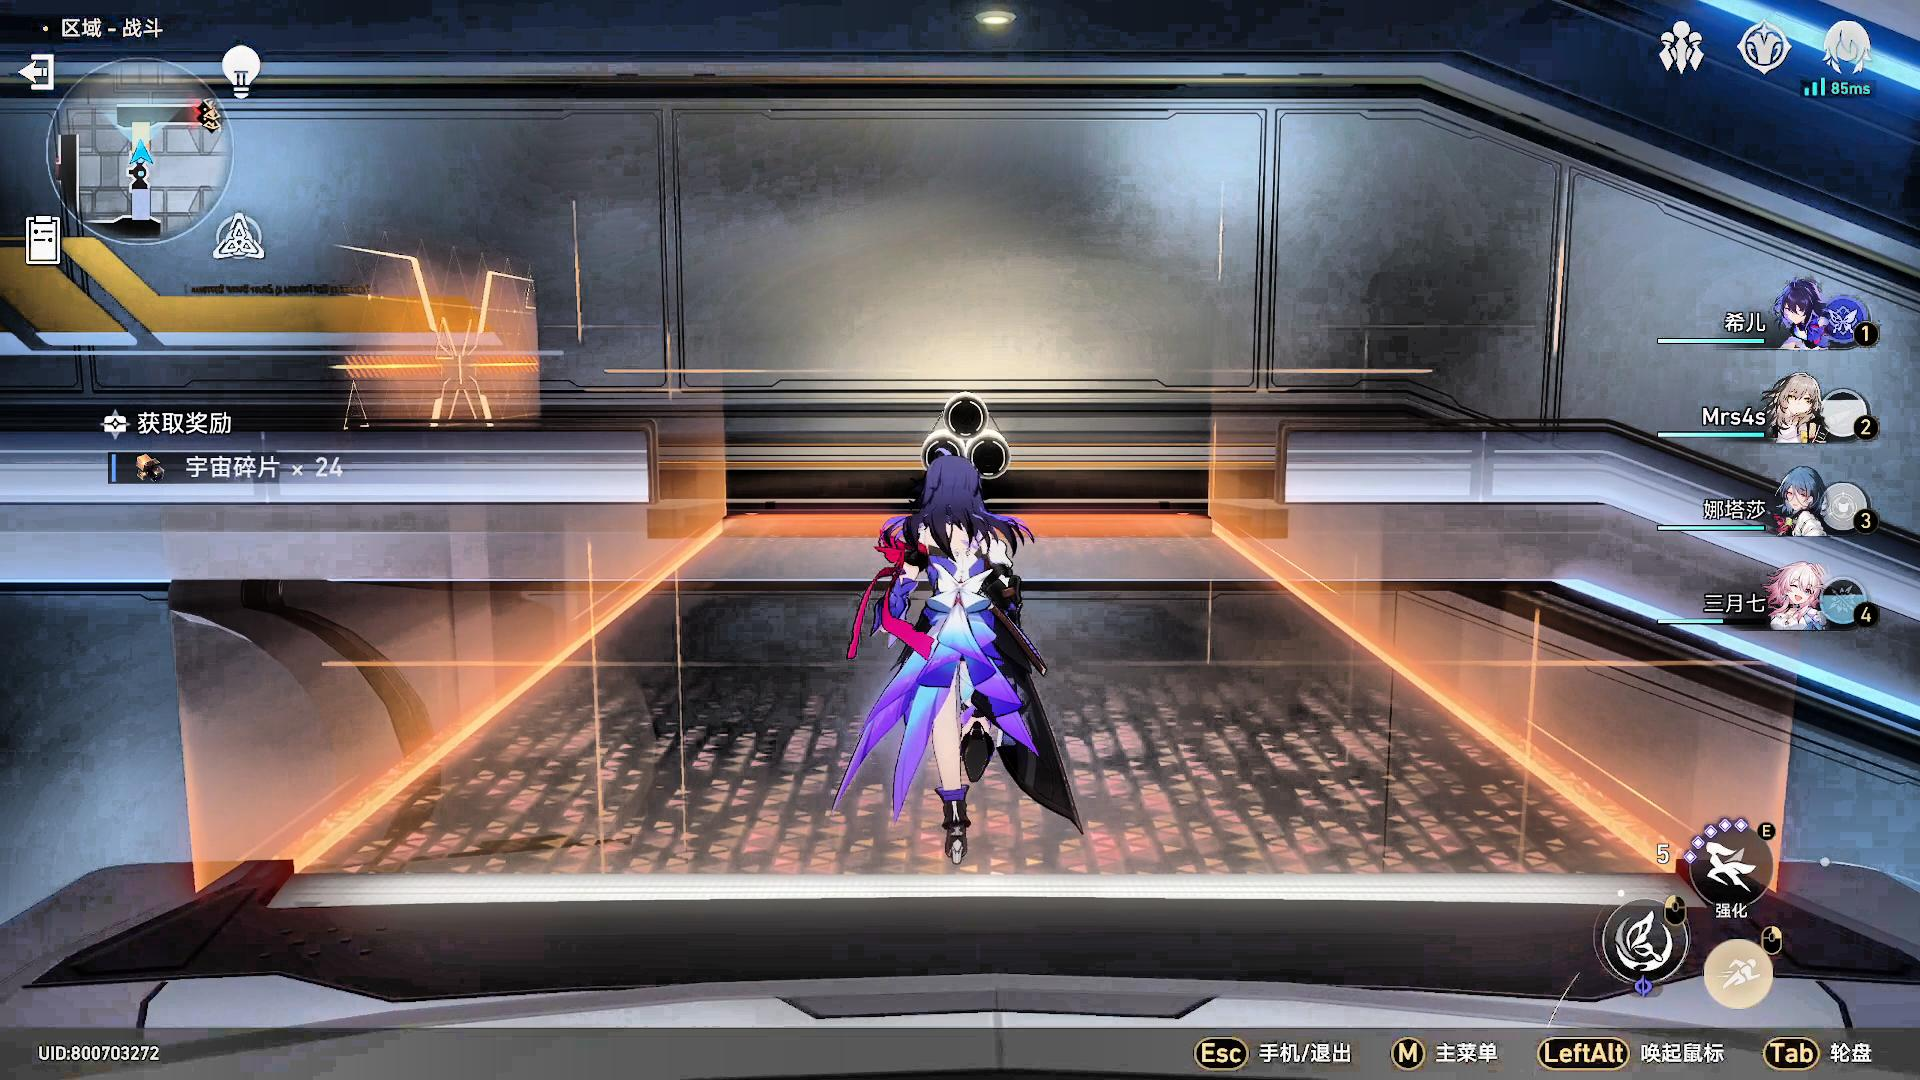Box: (915, 393, 1018, 477)
Self: (839, 463, 1067, 870)
